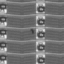dust: (30, 28, 34, 34)
